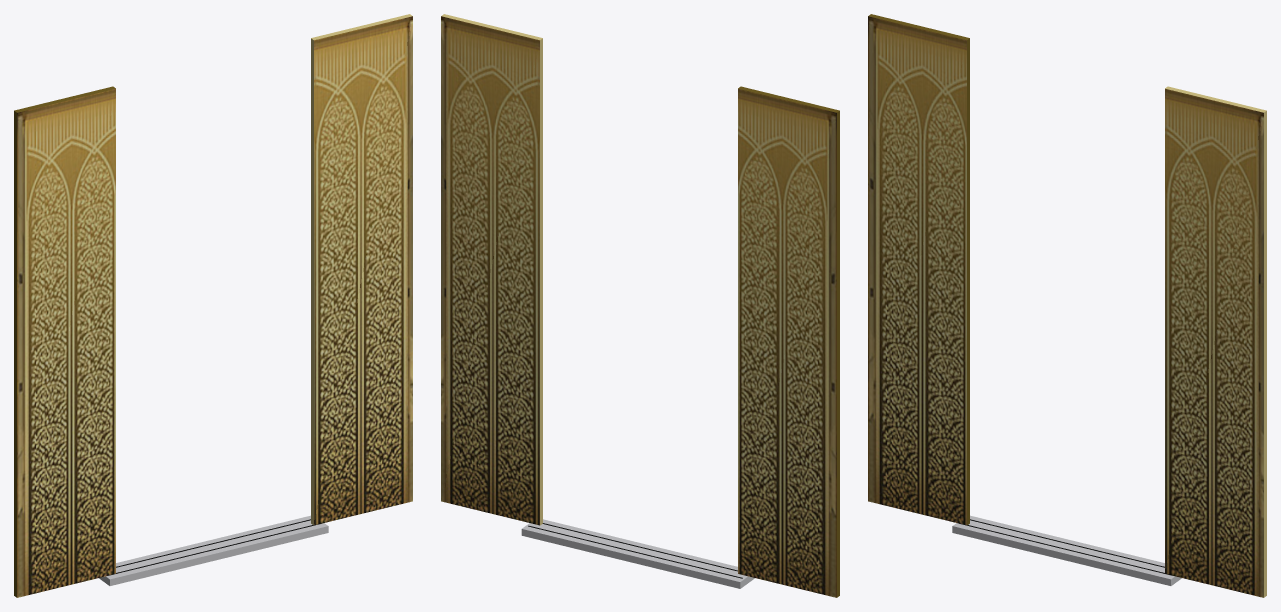
Rendered from cabin_door_TM023.glb.
3 renders of one model, left to right at view 1: azimuth 30°, elevation 25°; view 2: azimuth 150°, elevation 25°; view 3: azimuth 330°, elevation 25°, orthographic.
Parts seen in each view (by area): view 1: Car_Door_L, Car_Door_R, Door_Sill; view 2: Car_Door_L, Car_Door_R, Door_Sill; view 3: Car_Door_R, Car_Door_L, Door_Sill.
Part boxes in pixels (x1=…): Car_Door_L: x1=14, y1=86, x2=115, y2=597; Car_Door_R: x1=311, y1=14, x2=412, y2=525; Door_Sill: x1=99, y1=515, x2=328, y2=585; Car_Door_L: x1=738, y1=86, x2=839, y2=597; Car_Door_R: x1=441, y1=14, x2=542, y2=525; Door_Sill: x1=521, y1=519, x2=754, y2=588; Car_Door_R: x1=1165, y1=86, x2=1266, y2=597; Car_Door_L: x1=868, y1=14, x2=969, y2=525; Door_Sill: x1=952, y1=515, x2=1181, y2=585.
Size of the model in its own units: 1.81 by 2.15 by 0.12.
Materials: 3 (1 with a texture image).
